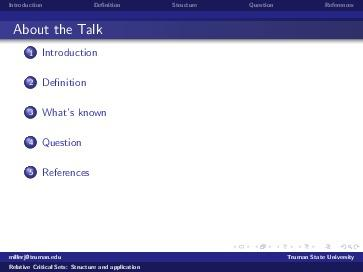paragraph: (23, 40, 147, 190)
title: (12, 19, 108, 42)
